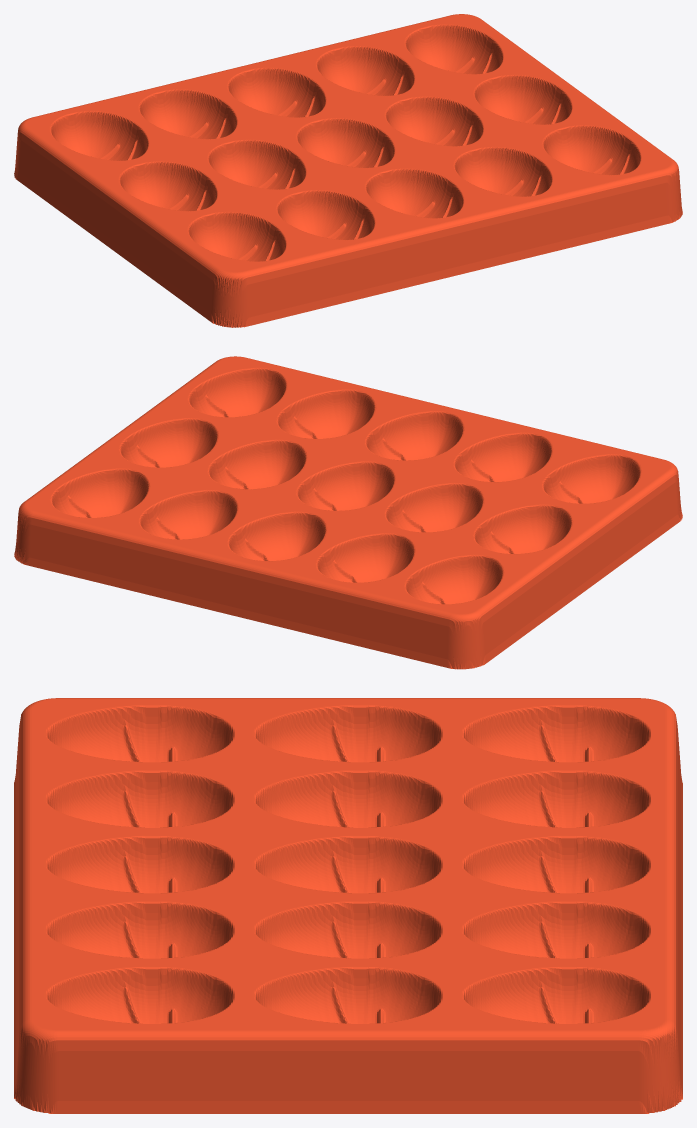
Rendered from mold.glb.
3 renders of one model, top to bottom at view 1: azimuth 30°, elevation 25°; view 2: azimuth 150°, elevation 25°; view 3: azimuth 270°, elevation 25°, orthographic. The views are drawn at different scales.
Parts seen in each view (by area): view 1: geometry_0; view 2: geometry_0; view 3: geometry_0.
Part boxes in pixels (x1,y1,x2,y2): geometry_0: [14, 14, 682, 327]; geometry_0: [14, 356, 682, 669]; geometry_0: [14, 698, 682, 1113].
Bounding box in the file's own units: 0.1703 × 0.0175 × 0.1392.
